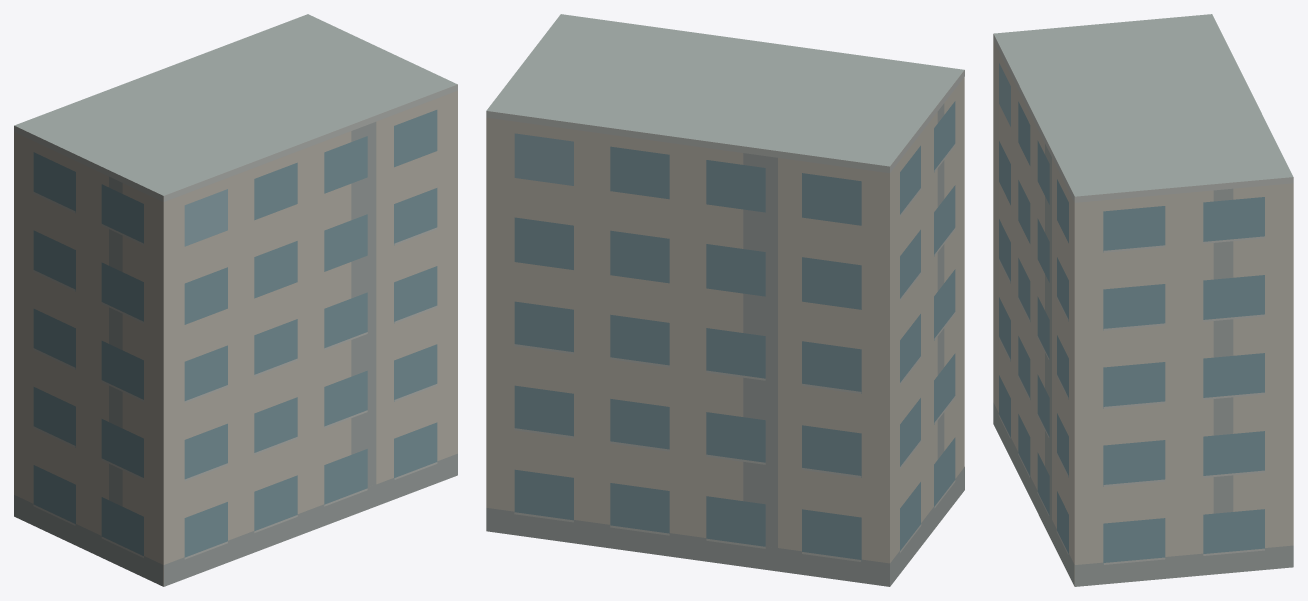
Rendered from residential-52895570-102e-495e-a3a8-0c32f76c98e8.glb.
3 views of the same model, side by side, from view 1: azimuth 30°, elevation 25°; view 2: azimuth 150°, elevation 25°; view 3: azimuth 270°, elevation 25° (orthographic). The views are drawn at different scales.
Visible parts, largest first — view 1: residential-52895570-102e-495e-a3a8-0c32f76c98e8.tmp; view 2: residential-52895570-102e-495e-a3a8-0c32f76c98e8.tmp; view 3: residential-52895570-102e-495e-a3a8-0c32f76c98e8.tmp.
Boxes of the visible parts, x1,y1,x2,y2 form: residential-52895570-102e-495e-a3a8-0c32f76c98e8.tmp: [14, 14, 457, 586]; residential-52895570-102e-495e-a3a8-0c32f76c98e8.tmp: [486, 14, 964, 586]; residential-52895570-102e-495e-a3a8-0c32f76c98e8.tmp: [993, 14, 1293, 586].
Bounding box in the file's own units: 15.31 × 15.25 × 10.64.
